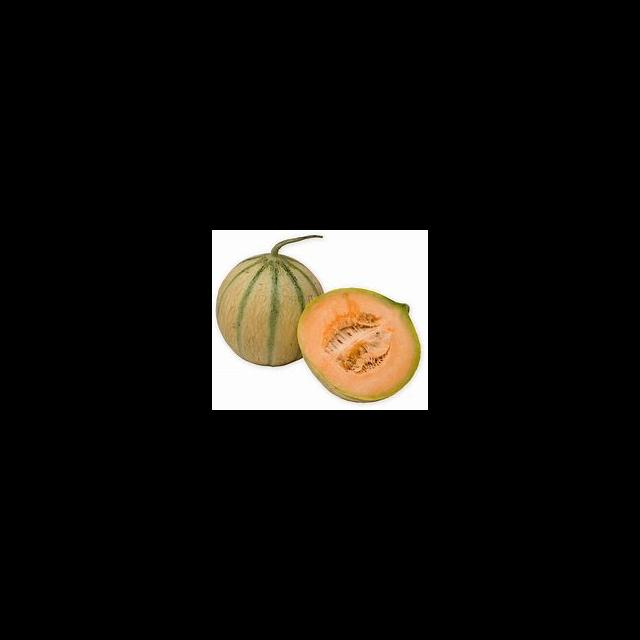Hami Melon: (296, 287, 422, 403)
